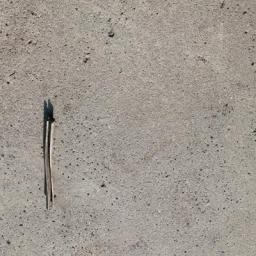FOD: (40, 97, 65, 215)
